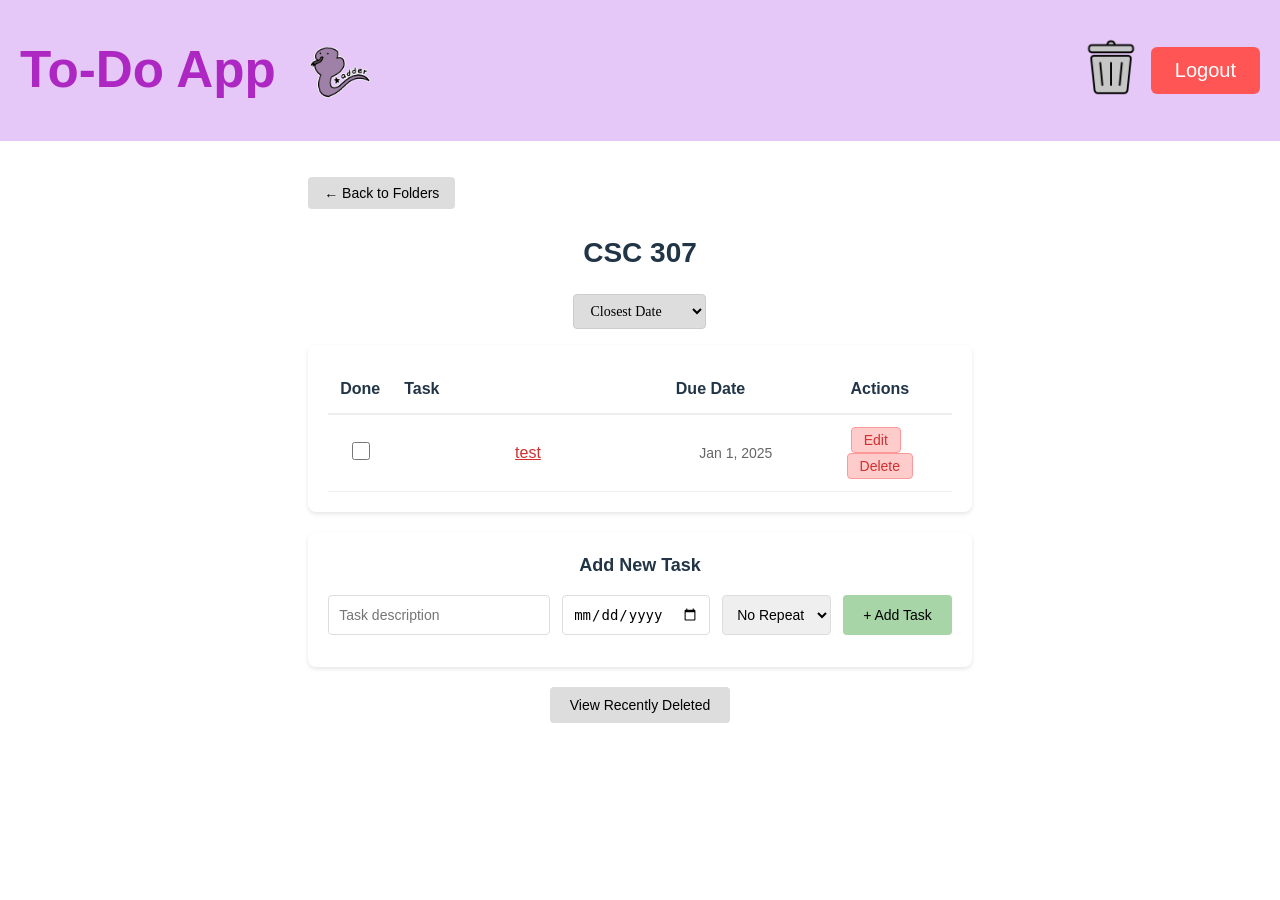
it: delete task
What coordinates should you click on to do the following:
click the button "Delete"
I would click on:
 (880, 466)
Its box is left=847, top=453, right=913, bottom=479.
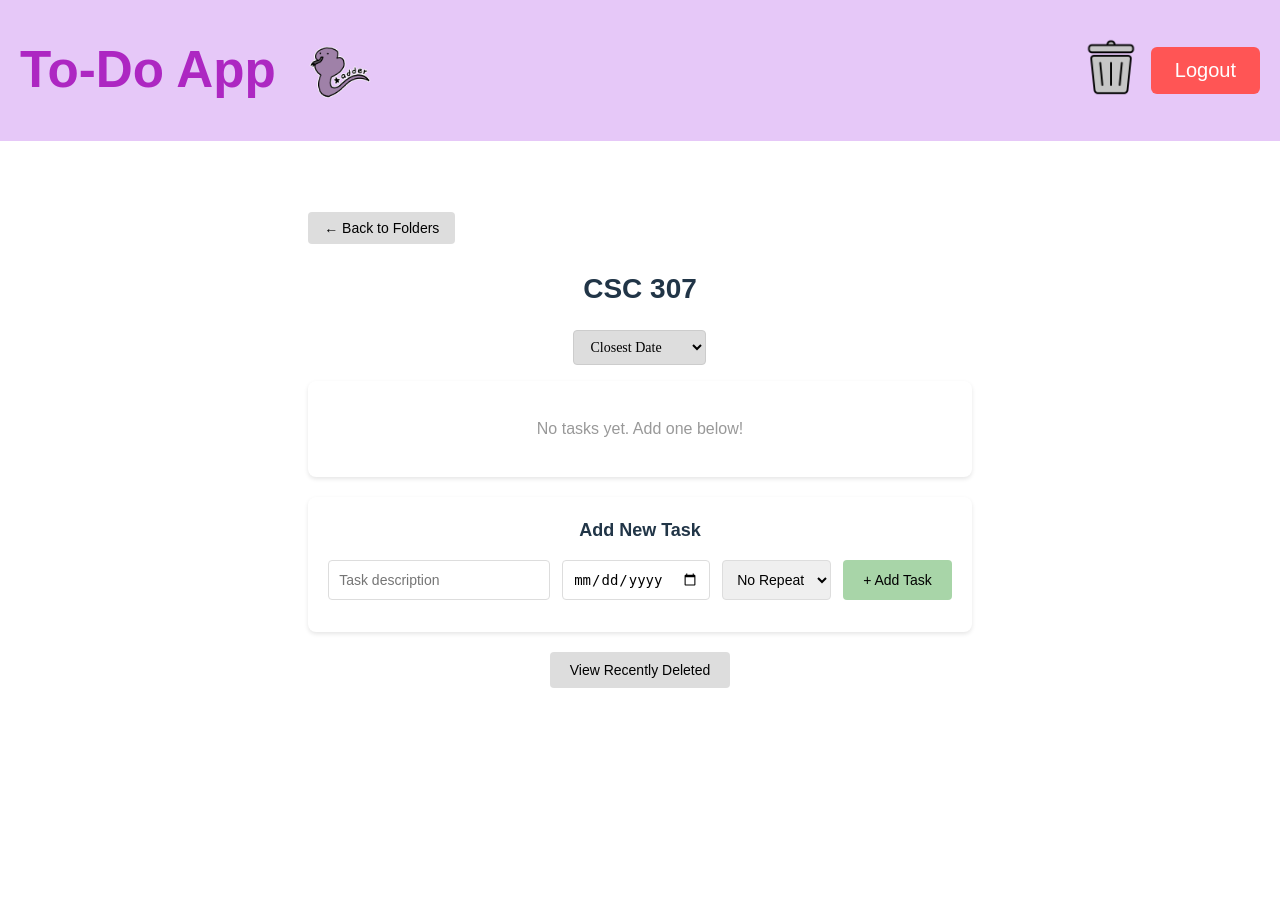
Now the text "test" is gone
